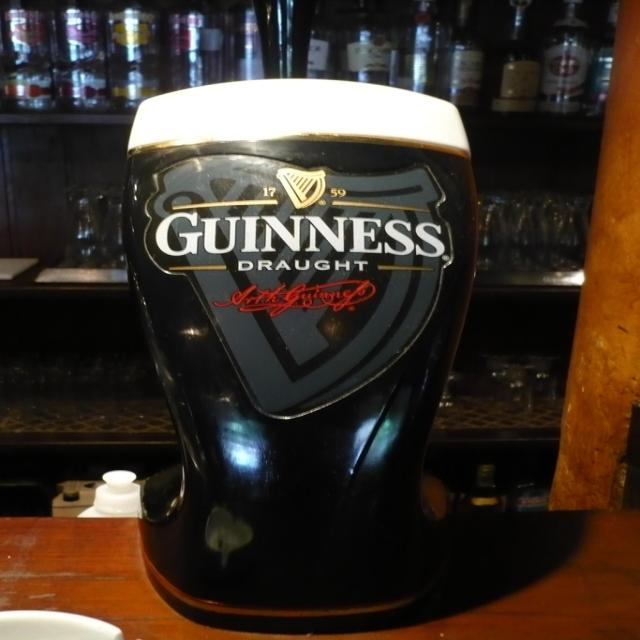guiness: (153, 167, 448, 261)
